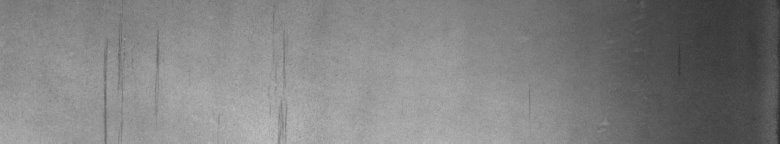ka: (104, 36, 159, 136)
